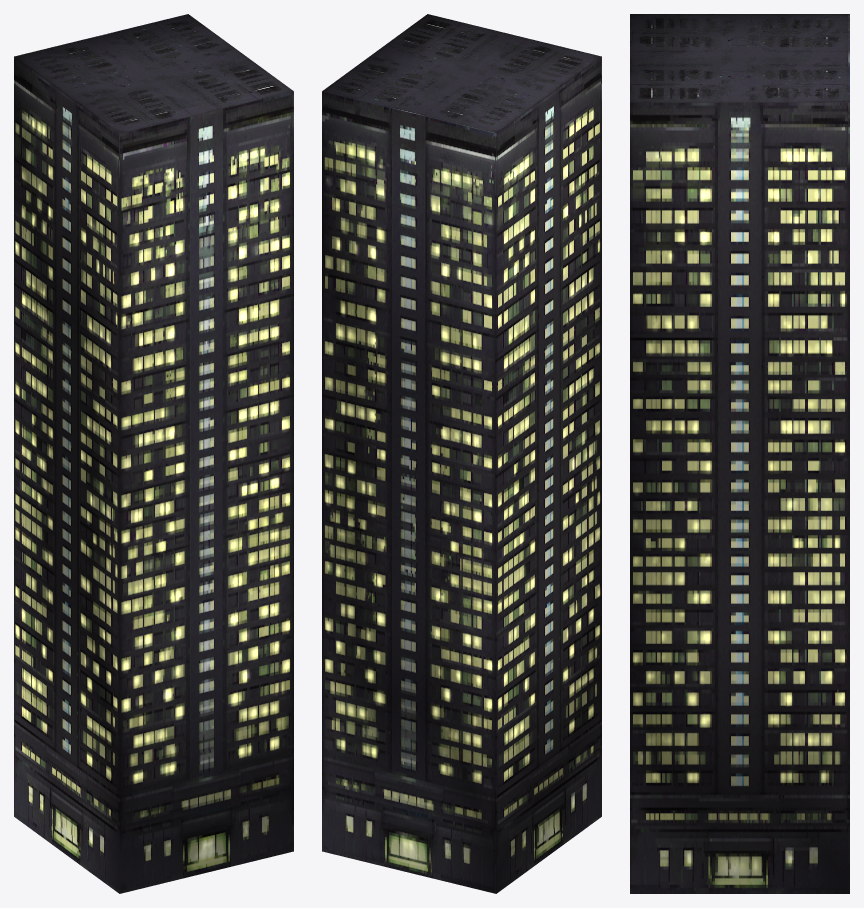
The model's file is building01.fbx.
The picture shows the model from 3 angles, left to right: view 1: azimuth 30°, elevation 25°; view 2: azimuth 150°, elevation 25°; view 3: azimuth 270°, elevation 25°; orthographic projection. The views are drawn at different scales.
Visible parts, largest first — view 1: Mesh_0; view 2: Mesh_0; view 3: Mesh_0.
Part boxes in pixels (x1,y1,x2,y2): Mesh_0: (14,14,293,893); Mesh_0: (322,14,601,893); Mesh_0: (630,14,849,893).
Size of the model in its own units: 1193 by 4973 by 1252.
1 material, 1 textured.
